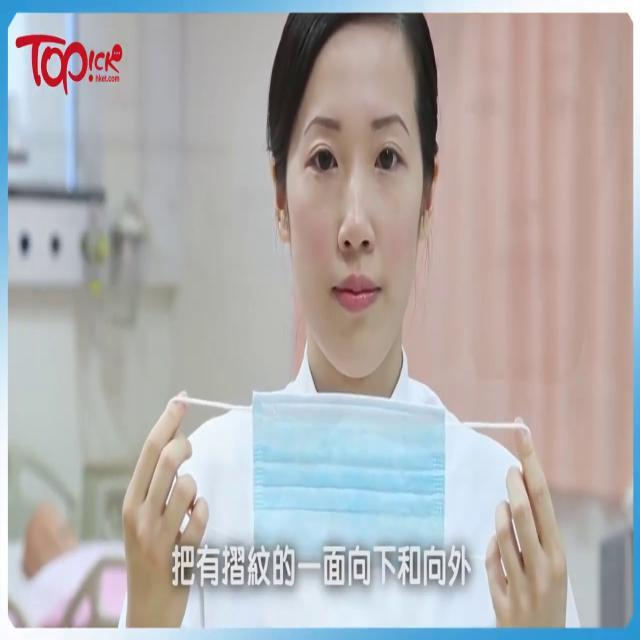bareface: (260, 22, 422, 376)
